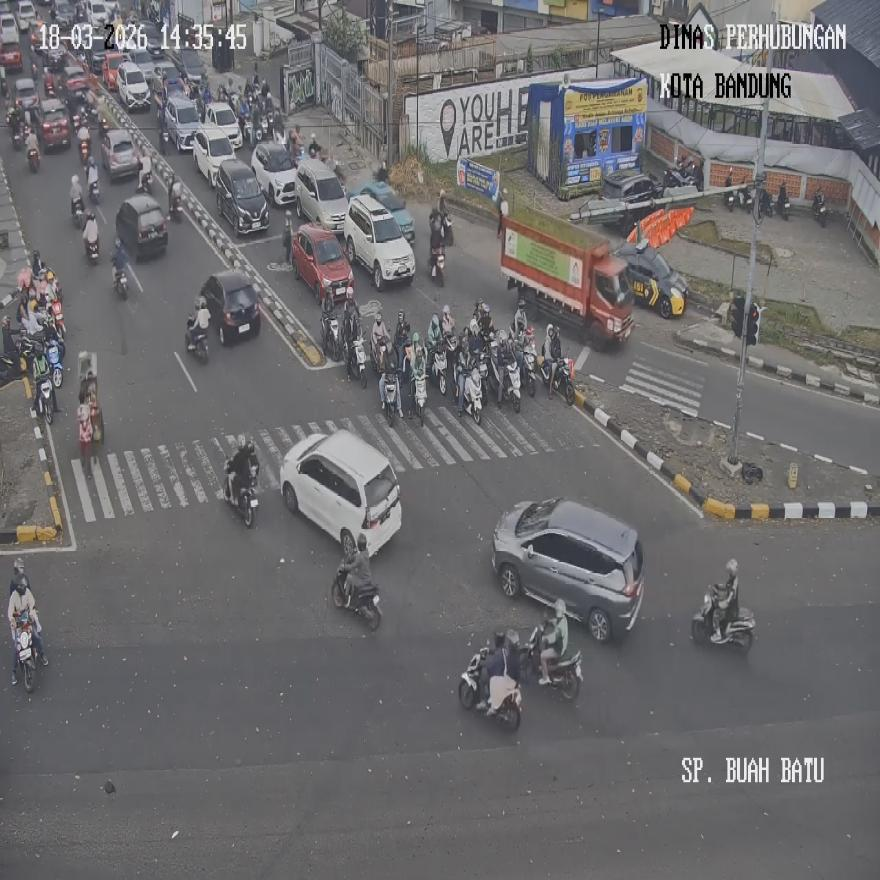Motor: (490, 495, 644, 642), (280, 429, 402, 555), (344, 193, 415, 287), (611, 236, 688, 319), (291, 223, 353, 304), (202, 270, 260, 345), (215, 159, 270, 236), (296, 156, 350, 234), (192, 122, 236, 187)
Truk: (458, 644, 521, 730), (519, 624, 581, 700), (690, 585, 754, 654), (332, 564, 382, 630), (225, 462, 258, 527), (30, 352, 55, 425), (13, 617, 37, 691), (547, 354, 575, 406), (462, 364, 483, 424), (380, 370, 400, 426), (320, 313, 342, 363), (428, 345, 449, 397), (484, 340, 501, 404), (186, 317, 209, 364), (500, 358, 520, 411), (410, 360, 426, 426), (520, 334, 536, 396), (45, 338, 63, 392), (348, 336, 366, 386), (47, 292, 64, 342), (168, 184, 184, 223), (430, 242, 444, 285), (723, 168, 736, 212), (10, 106, 23, 148), (113, 263, 128, 299), (812, 190, 826, 228), (84, 232, 100, 265), (26, 132, 39, 172), (775, 186, 790, 220), (136, 165, 153, 194), (88, 166, 100, 204), (742, 182, 756, 213), (71, 195, 84, 227), (78, 137, 90, 170)
